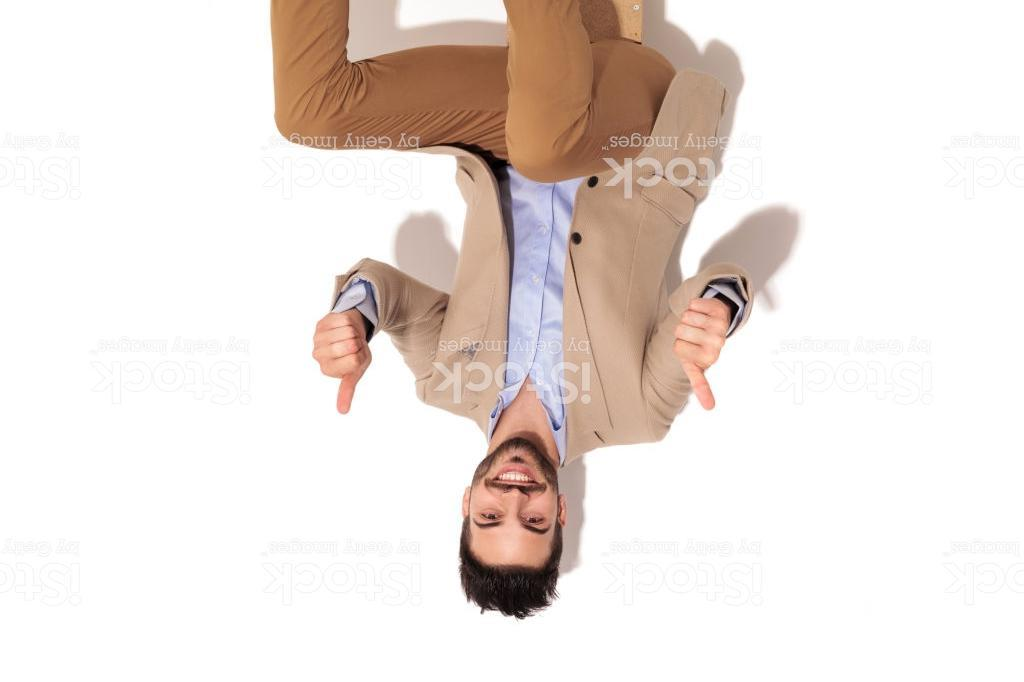thumbsdown: (670, 296, 734, 412), (310, 310, 373, 417)
